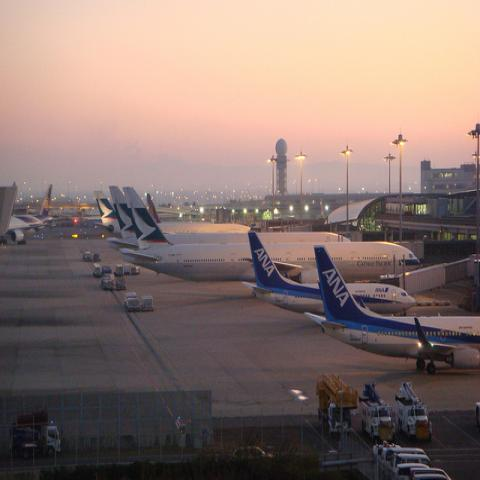car: (394, 454, 431, 479), (393, 462, 431, 479), (373, 441, 401, 462), (125, 292, 139, 312), (101, 274, 115, 290), (141, 296, 154, 310), (115, 277, 127, 291), (94, 263, 102, 277), (83, 252, 92, 262), (114, 266, 123, 276), (130, 266, 140, 275)
truck: (316, 370, 358, 435), (394, 382, 432, 441), (359, 382, 397, 440), (11, 423, 60, 457), (124, 292, 140, 312), (101, 275, 114, 291)
